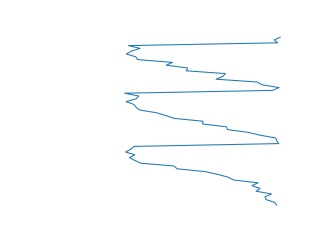distributaryMouthBar: (121, 35, 283, 208)
